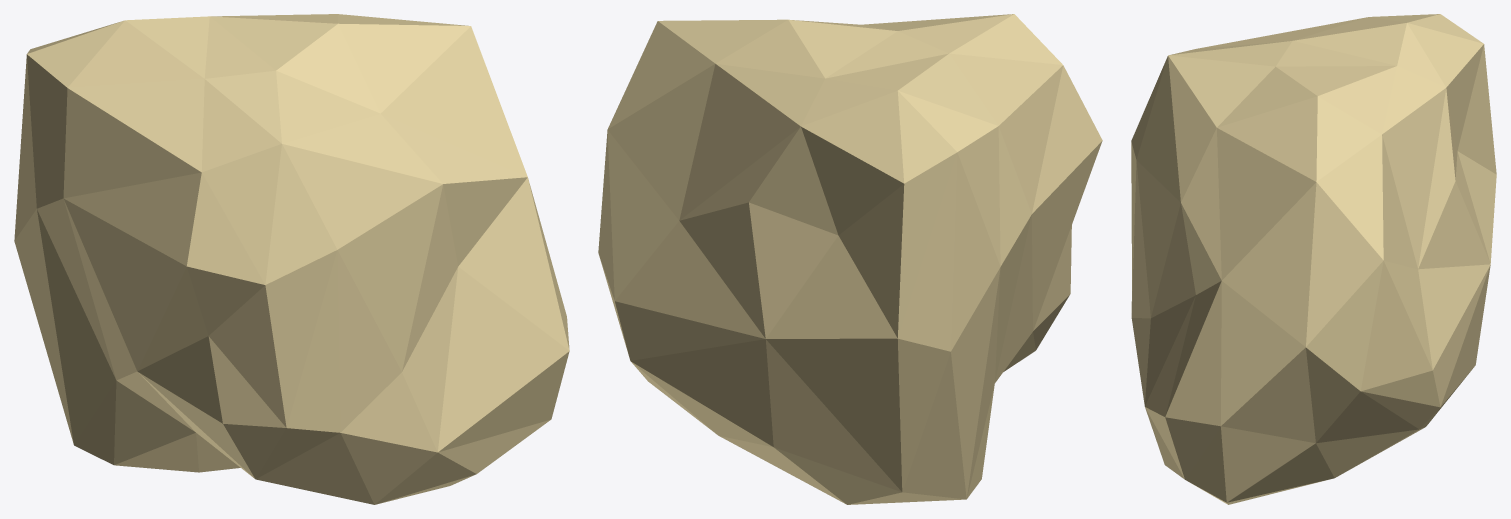
File: Rock (14).fbx
3 views of the same model, side by side, from view 1: azimuth 30°, elevation 25°; view 2: azimuth 150°, elevation 25°; view 3: azimuth 270°, elevation 25° (orthographic). The views are drawn at different scales.
Visible parts, largest first — view 1: Asteroid13; view 2: Asteroid13; view 3: Asteroid13.
Part boxes in pixels (bbox=[...]): Asteroid13: bbox=[14, 14, 569, 504]; Asteroid13: bbox=[598, 14, 1102, 504]; Asteroid13: bbox=[1131, 14, 1496, 504].
Bounding box in the file's own units: 291 × 280 × 239.
